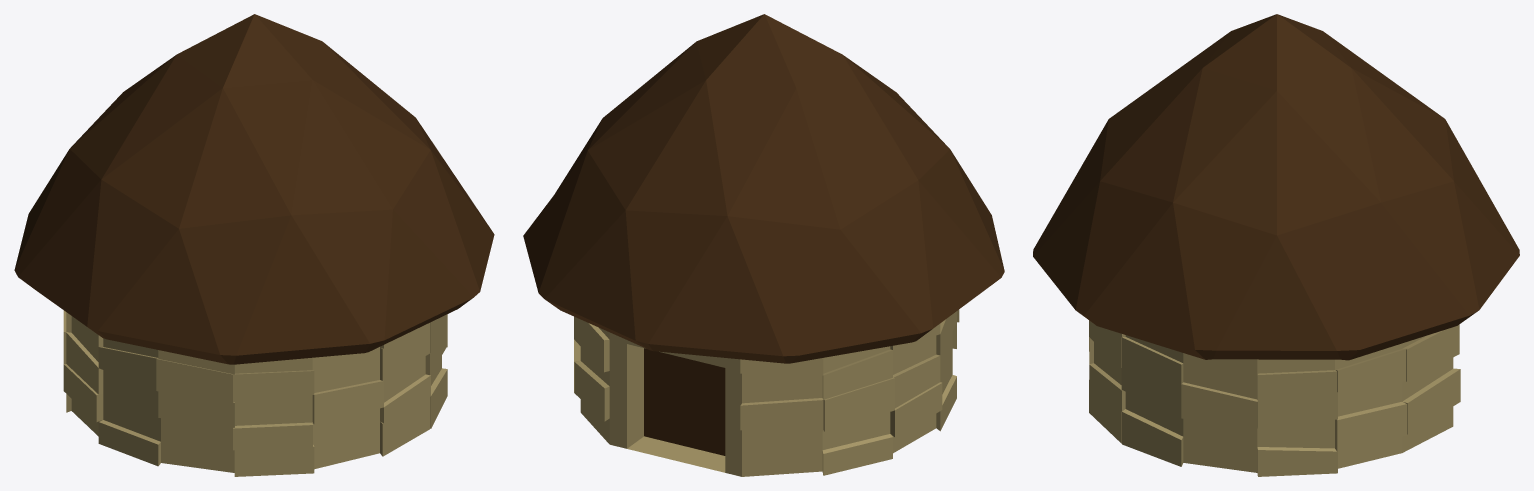
The model's file is SaveHut3.fbx.
3 renders of one model, left to right at view 1: azimuth 30°, elevation 25°; view 2: azimuth 150°, elevation 25°; view 3: azimuth 270°, elevation 25°, orthographic.
Visible parts, largest first — view 1: Icosphere, Icosphere.002; view 2: Icosphere, Icosphere.002; view 3: Icosphere, Icosphere.002.
Part boxes in pixels (<box>): Icosphere: <box>14,14,494,364</box>; Icosphere.002: <box>63,310,447,476</box>; Icosphere: <box>523,14,1004,363</box>; Icosphere.002: <box>574,309,959,476</box>; Icosphere: <box>1033,14,1519,360</box>; Icosphere.002: <box>1089,320,1460,476</box>.
Bounding box in the file's own units: 6.46 × 5.86 × 6.76.
